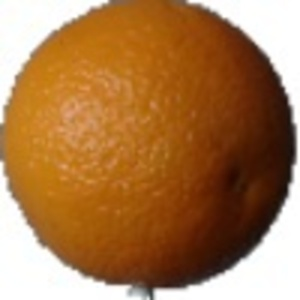laranja: (4, 1, 297, 298)
